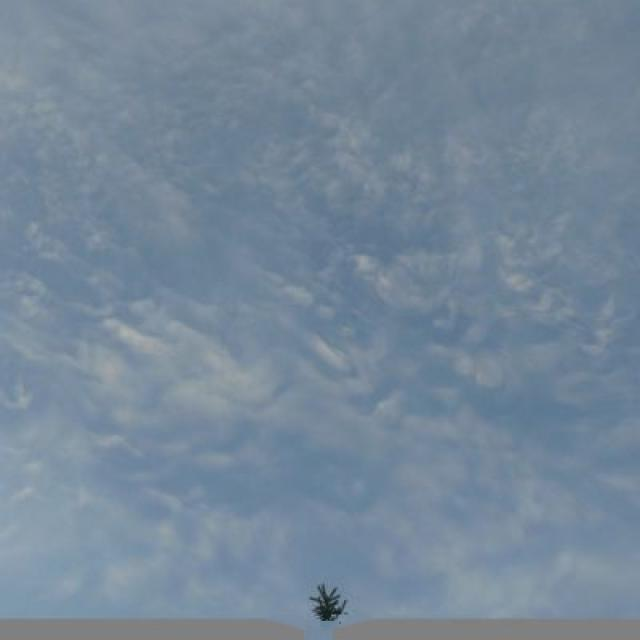Cc: (1, 121, 640, 491)
